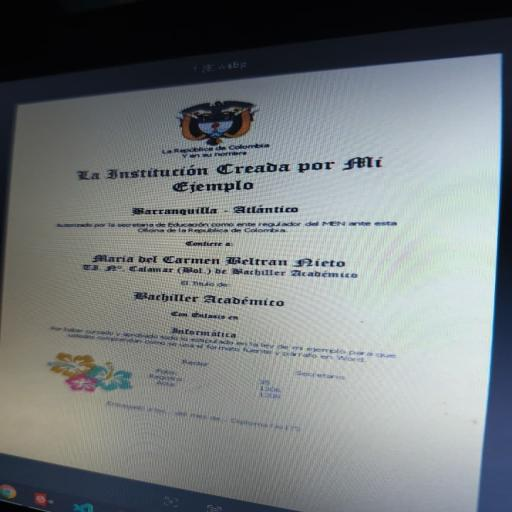bachillerato: (102, 284, 303, 317)
diploma: (2, 53, 500, 512)
escudo: (159, 88, 273, 163)
institucion: (62, 148, 415, 188)
nombre: (69, 244, 389, 284)
